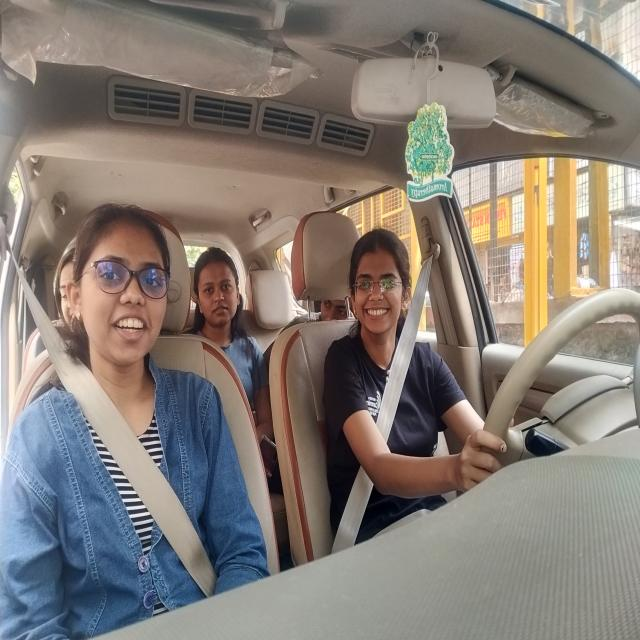LeftRight: (349, 225, 409, 349)
person: (73, 195, 173, 379), (196, 242, 238, 326), (52, 249, 76, 337), (319, 298, 346, 323)
talking: (365, 308, 391, 320)
